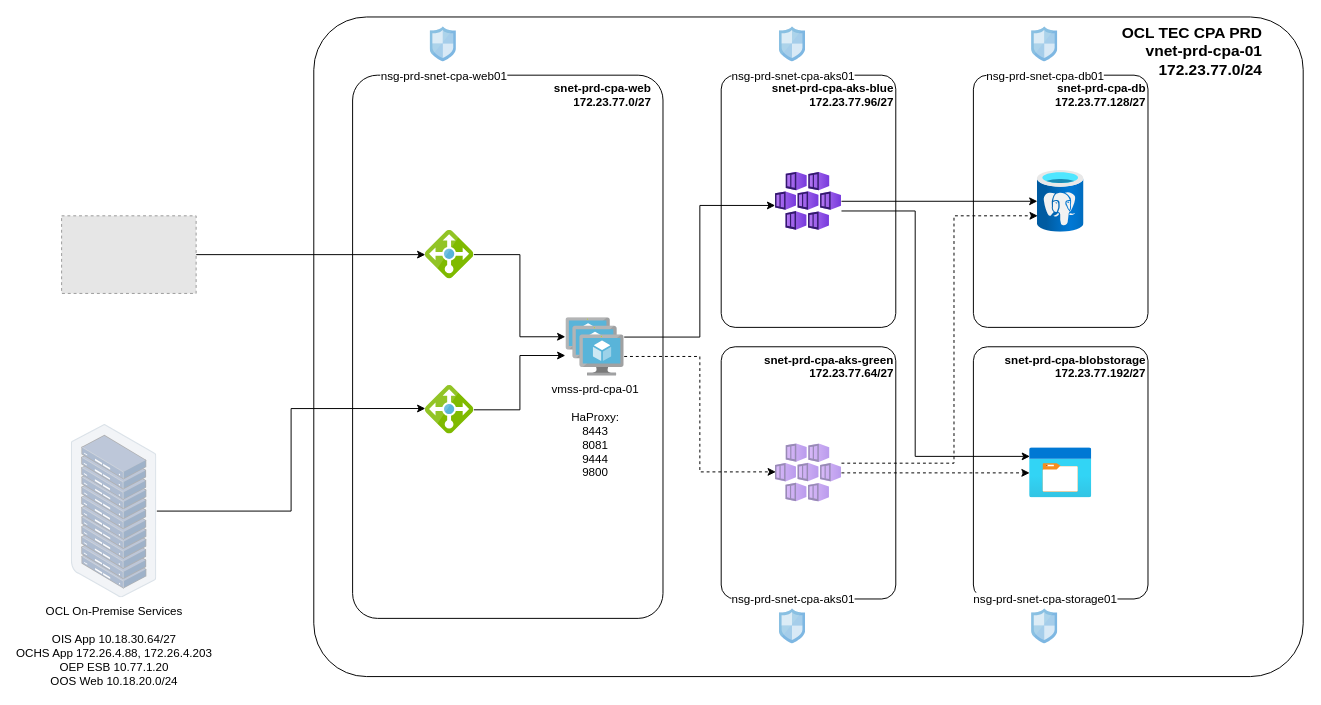
The diagram is 1321 pixels wide and 705 high, and some of its shapes have lost their labels. Grey dashed boxes stand in for pictures. The shapes that lost their labels are listed below. From the top down, each one's centre as x and y in pixels, then its label:
At (808,201): "aks-prd-cpa-01-blue LB: 172.23.77.126".
At (1060,201): "postgresql-prd-cpa-01 172.23.77.132".
At (449,254): "lb-public-vmss-prd-cpa-01 20.187.161.136 Port 443 to 8443".
At (449,409): "lb-private-vmss-prd-cpa-01 172.23.77.30 Ports 8081 9444 9800".
At (808,472): "aks-prd-cpa-01-green LB: 172.23.77.94 (inactive as at 28-Feb-2022)".
At (1060,472): "oclcpastoraccprd01 172.23.77.196".
